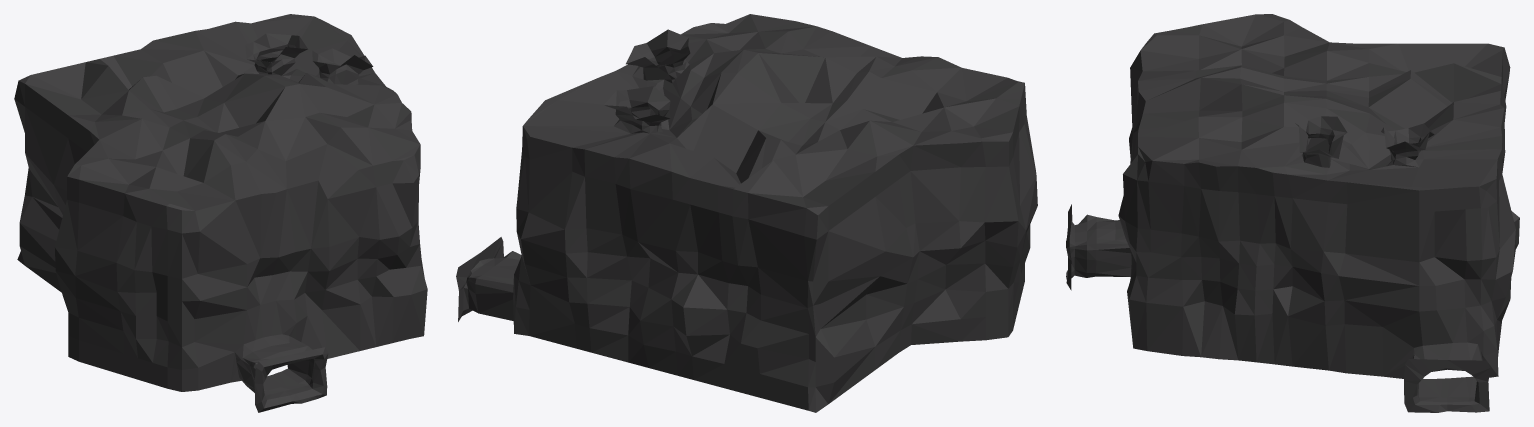
The model's file is Cave_14A_LOD_1.fbx.
3 views of the same model, side by side, from view 1: azimuth 30°, elevation 25°; view 2: azimuth 150°, elevation 25°; view 3: azimuth 270°, elevation 25° (orthographic). The views are drawn at different scales.
Parts seen in each view (by area): view 1: polySurface1226; view 2: polySurface1226; view 3: polySurface1226.
Part boxes in pixels (<box>): polySurface1226: <box>14,14,427,412</box>; polySurface1226: <box>456,14,1037,412</box>; polySurface1226: <box>1066,14,1519,412</box>.
Bounding box in the file's own units: 51.33 × 26.92 × 46.9.
